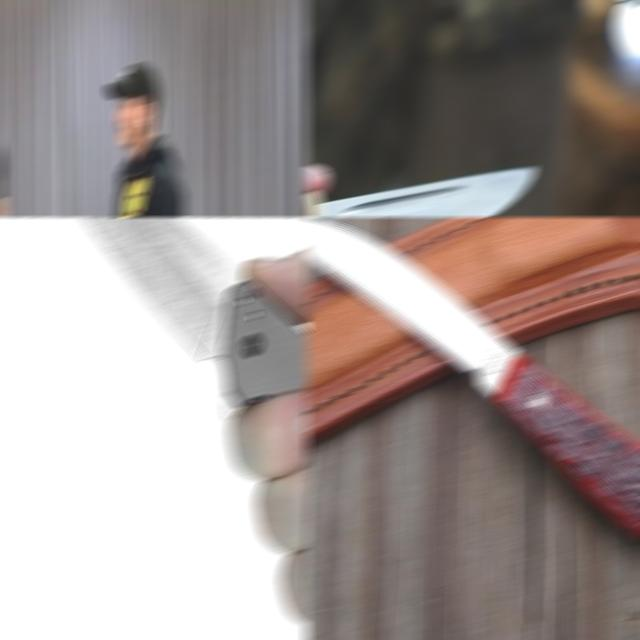Knife: (81, 218, 310, 407), (304, 167, 537, 216)
Knife_Handle: (24, 218, 310, 640), (304, 34, 546, 216)
